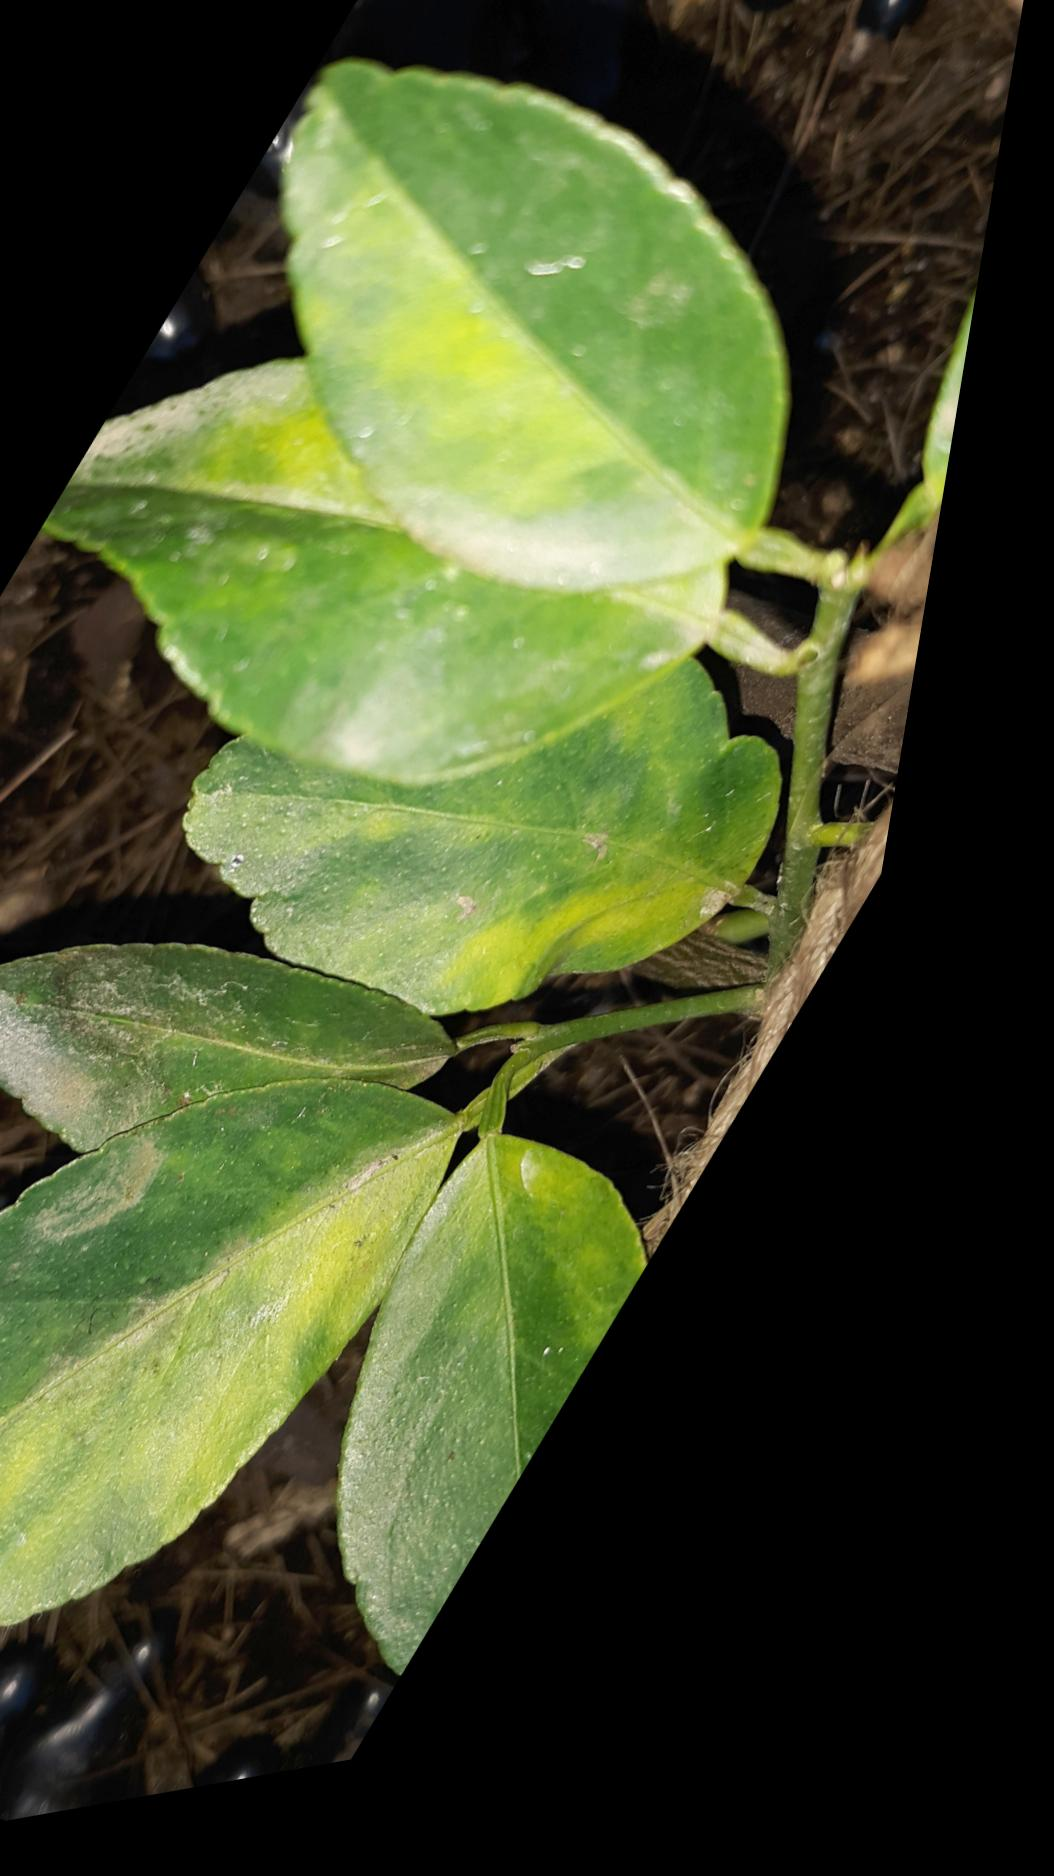Citrus Greening: (82, 0, 979, 749), (0, 271, 847, 924), (0, 914, 573, 1830), (214, 546, 881, 1153), (282, 1148, 734, 1676)
